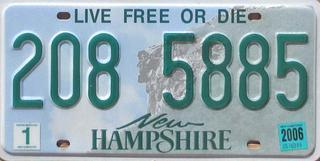placa de veiculo: (6, 3, 312, 155)
